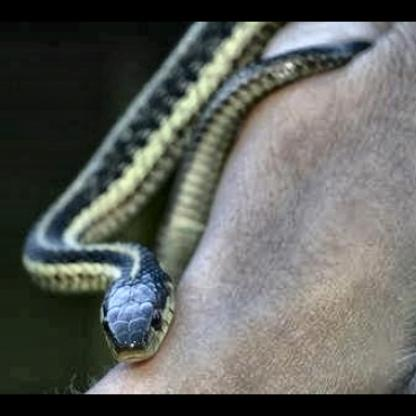Snake: (21, 29, 215, 362)
